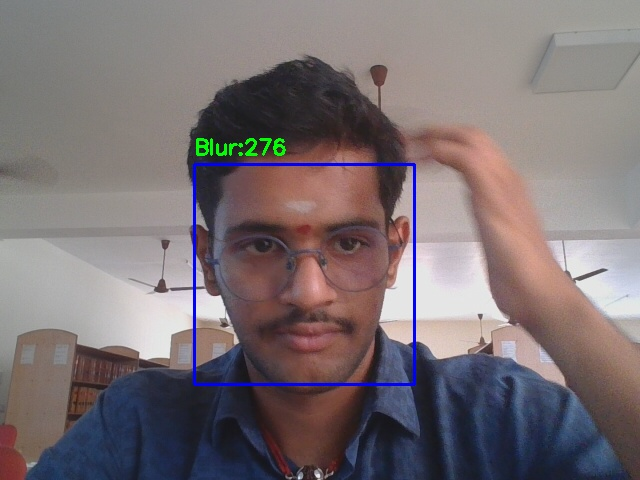real: (194, 164, 414, 384)
